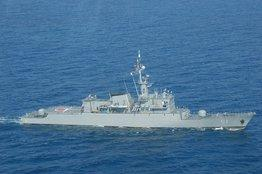warship: (20, 56, 254, 128)
